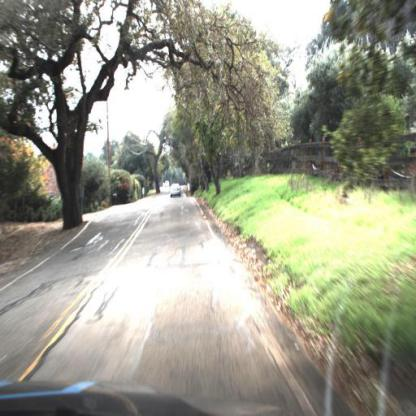car: (168, 180, 185, 201)
